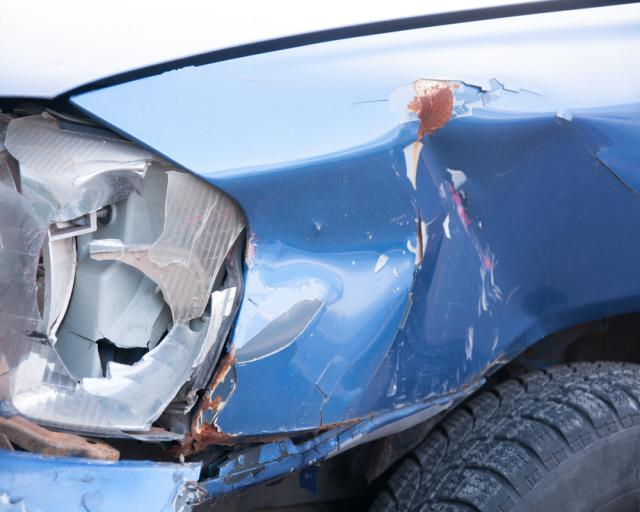dent: (369, 116, 640, 406), (224, 152, 419, 321)
lamp broken: (0, 104, 251, 442)
